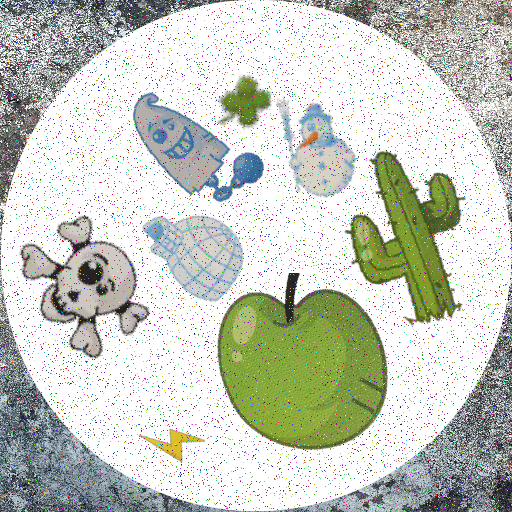apple_icon: (197, 273, 392, 468)
cactus_icon: (312, 146, 502, 336)
cloverleaf_icon: (209, 69, 272, 132)
ghost_icon: (116, 71, 268, 223)
igloo_icon: (134, 196, 246, 308)
lightning_icon: (139, 408, 205, 474)
skull_icon: (10, 209, 168, 367)
snowman_icon: (253, 90, 364, 201)
